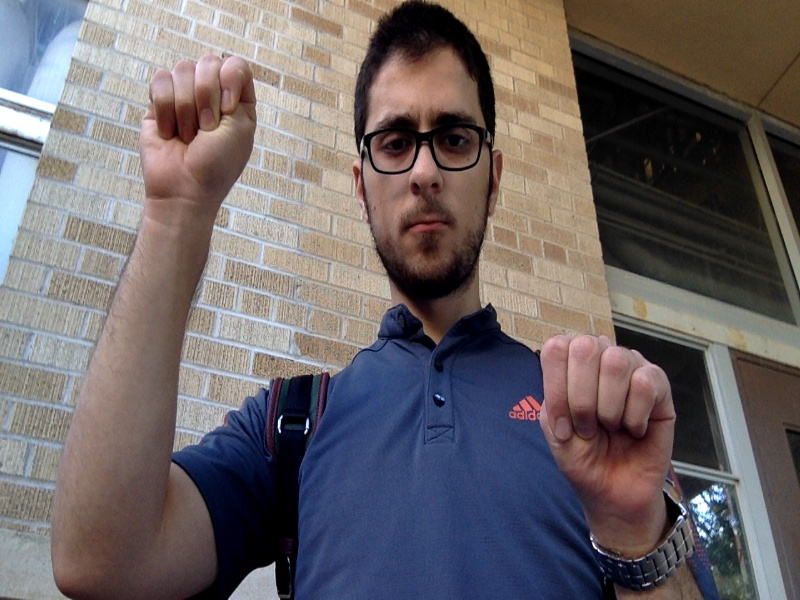0-hand: (539, 334, 674, 512), (142, 55, 255, 206)
